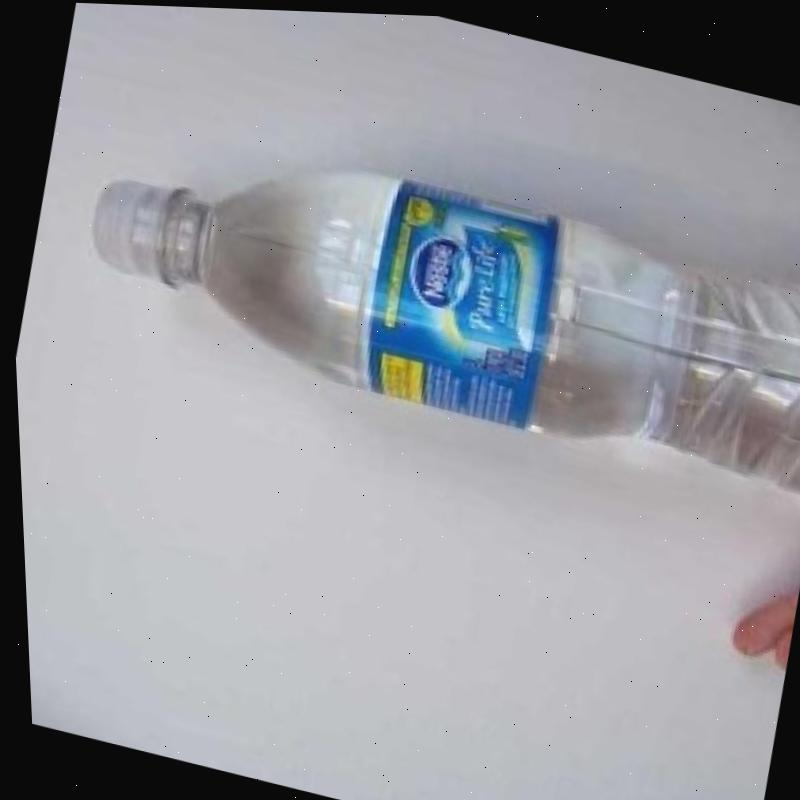botella: (61, 90, 800, 503)
